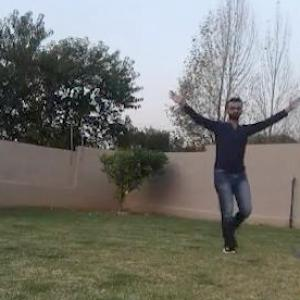takeoff: (167, 88, 299, 252)
